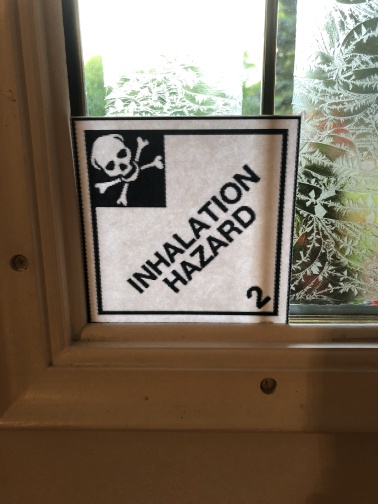InhalationHazard: (68, 116, 303, 325)
